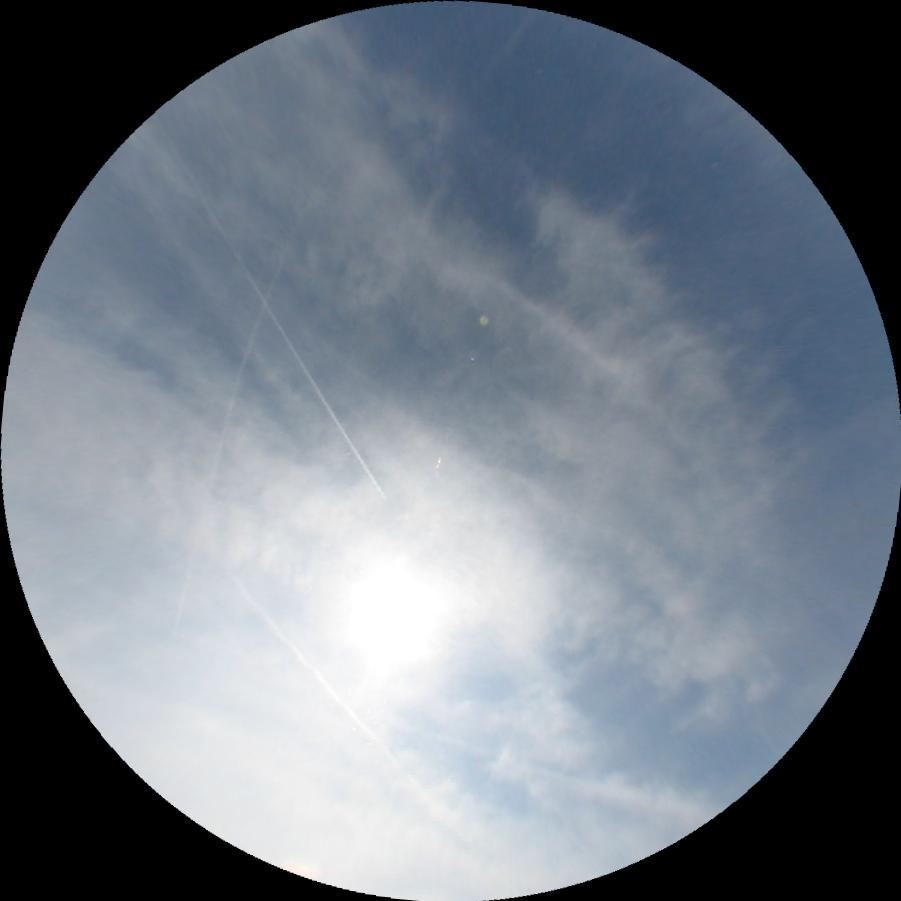contrail young: (188, 179, 388, 503), (162, 255, 286, 636), (228, 576, 401, 767)
sun: (323, 543, 463, 684)
